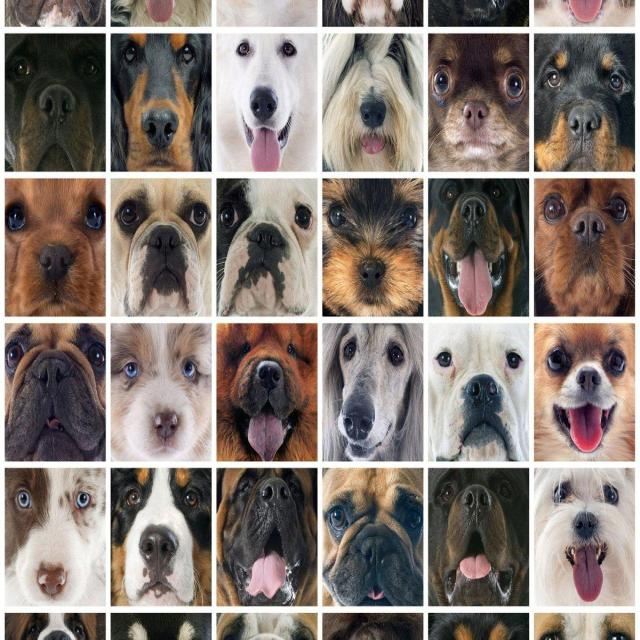Dog: (428, 321, 529, 464), (215, 177, 318, 317), (5, 176, 106, 317), (216, 33, 317, 173), (5, 466, 106, 606), (535, 32, 635, 173), (321, 180, 423, 318), (110, 324, 212, 462), (532, 468, 634, 606), (536, 322, 636, 462), (534, 178, 636, 315), (323, 179, 424, 317), (5, 322, 106, 460), (112, 34, 212, 173), (428, 34, 528, 173), (110, 468, 210, 606), (112, 179, 212, 316), (430, 179, 530, 316), (218, 468, 317, 606), (216, 324, 316, 460), (324, 322, 421, 462), (5, 34, 104, 171), (324, 468, 421, 606), (432, 468, 528, 606), (325, 36, 424, 168)
